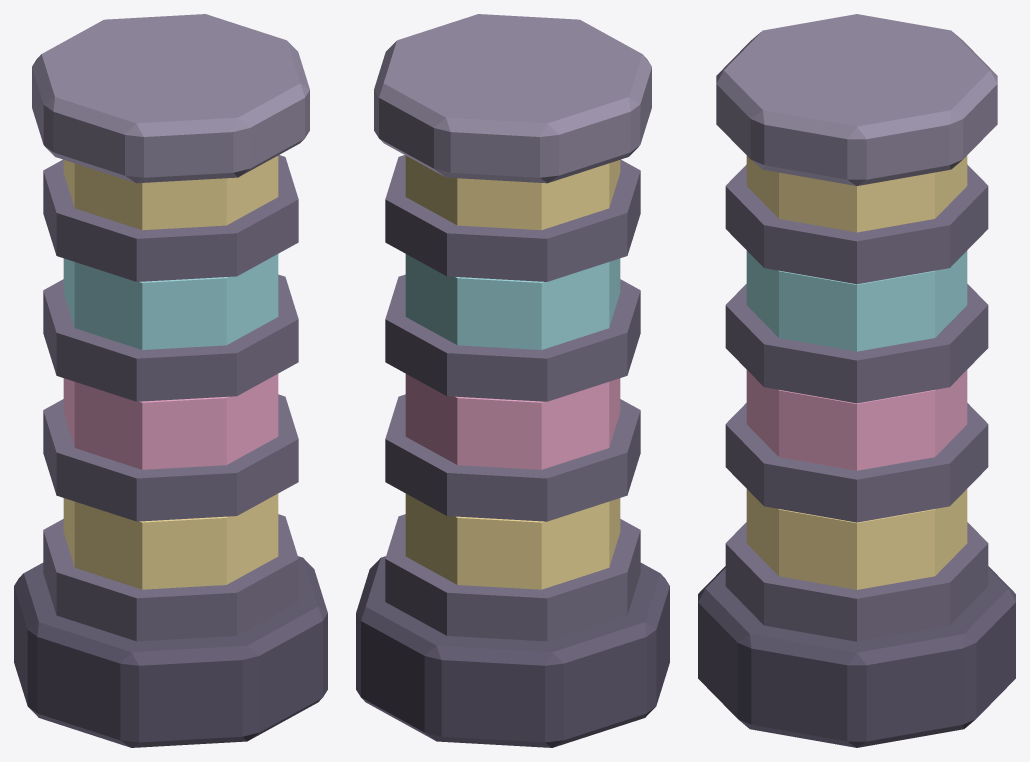
Rendered from ember_shimmer_totem.glb.
The picture shows the model from 3 angles, left to right: view 1: azimuth 30°, elevation 25°; view 2: azimuth 150°, elevation 25°; view 3: azimuth 270°, elevation 25°; orthographic projection.
Parts seen in each view (by area): view 1: ember_shimmer_totem.001; view 2: ember_shimmer_totem.001; view 3: ember_shimmer_totem.001.
Part boxes in pixels (x1,y1,x2,y2): ember_shimmer_totem.001: (14,14,327,747); ember_shimmer_totem.001: (356,14,669,747); ember_shimmer_totem.001: (698,14,1015,747).
Size of the model in its own units: 1.21 by 2.58 by 1.21.
